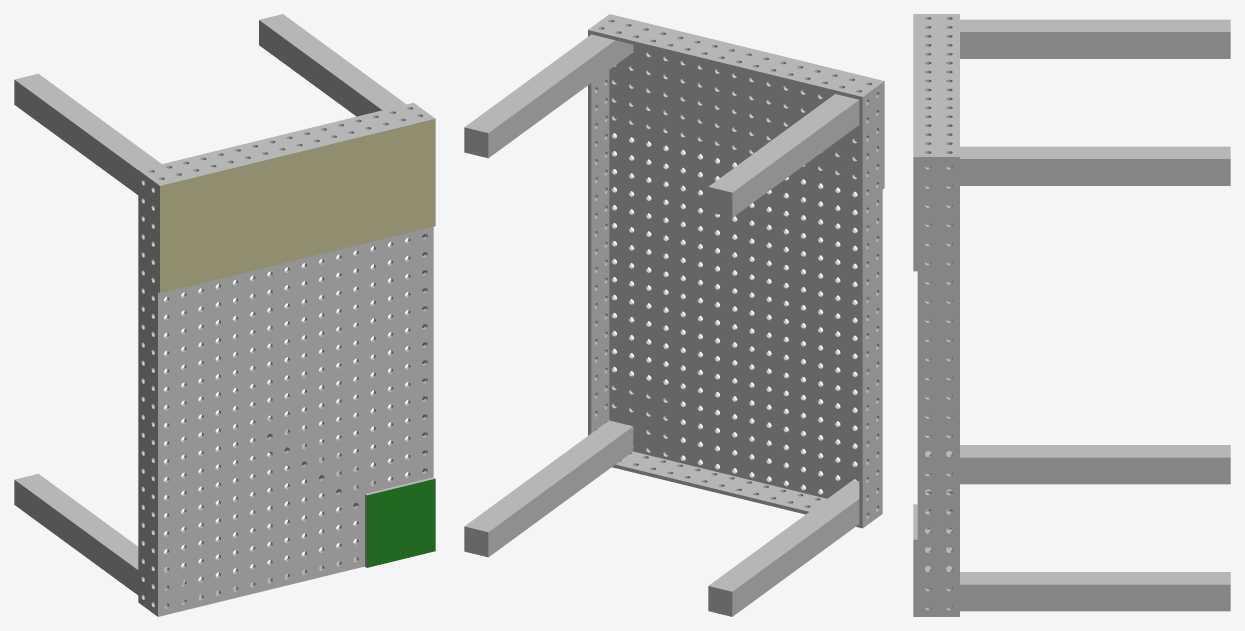
File: Sigmund_table.obj
3 views of the same model, side by side, from view 1: azimuth 30°, elevation 25°; view 2: azimuth 150°, elevation 25°; view 3: azimuth 270°, elevation 25° (orthographic). The views are drawn at different scales.
Visible parts, largest first — view 1: Solid1, Solid2, Solid3; view 2: Solid1, Solid2; view 3: Solid1, Solid2, Solid3.
Part boxes in pixels (<box>): Solid1: <box>14,14,433,616</box>; Solid2: <box>158,117,435,293</box>; Solid3: <box>365,477,435,567</box>; Solid1: <box>464,15,882,616</box>; Solid2: <box>608,14,884,189</box>; Solid1: <box>917,14,1230,616</box>; Solid2: <box>913,14,917,271</box>; Solid3: <box>913,504,917,616</box>.
Size of the model in its own units: 0.8 by 1.2 by 0.75.
